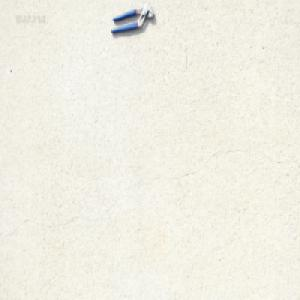Pliers: (110, 4, 154, 35)
